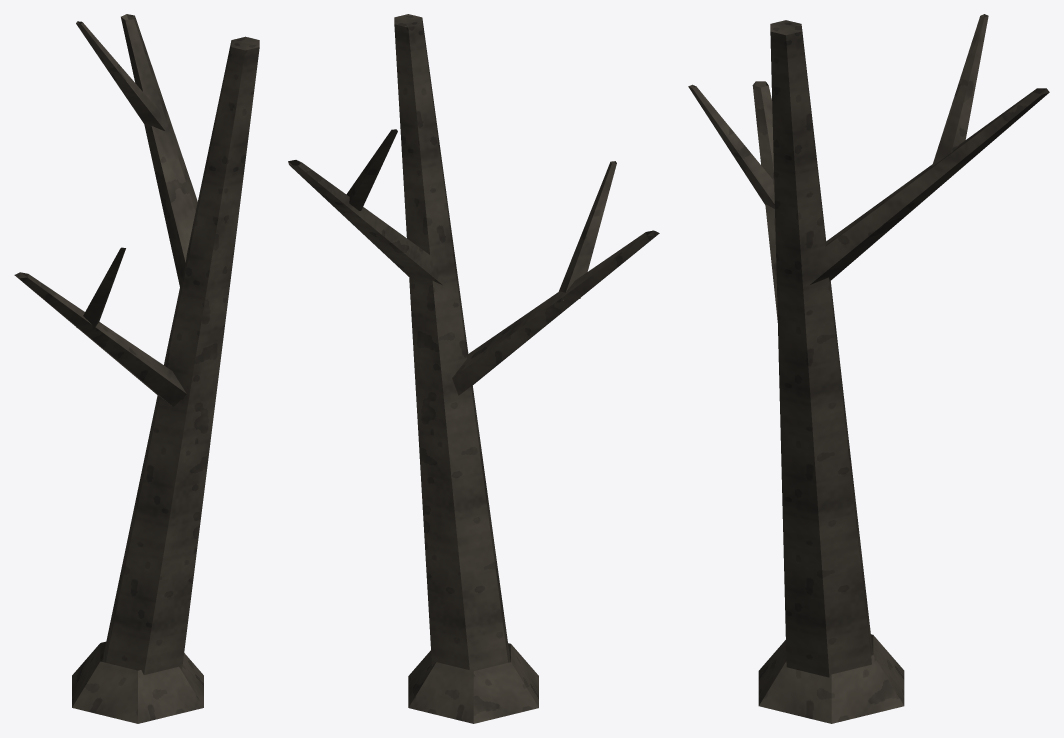
Rendered from dead_tree_b.glb.
The picture shows the model from 3 angles, left to right: view 1: azimuth 30°, elevation 25°; view 2: azimuth 150°, elevation 25°; view 3: azimuth 270°, elevation 25°; orthographic projection. The views are drawn at different scales.
Visible parts, largest first — view 1: DeadTreeB; view 2: DeadTreeB; view 3: DeadTreeB.
Boxes of the visible parts, box(x1,y1,x2,y2) form: DeadTreeB: box(14, 14, 259, 723); DeadTreeB: box(288, 14, 659, 723); DeadTreeB: box(688, 14, 1049, 723).
Size of the model in its own units: 1.51 by 3.64 by 1.69.
1 material, 1 textured.
